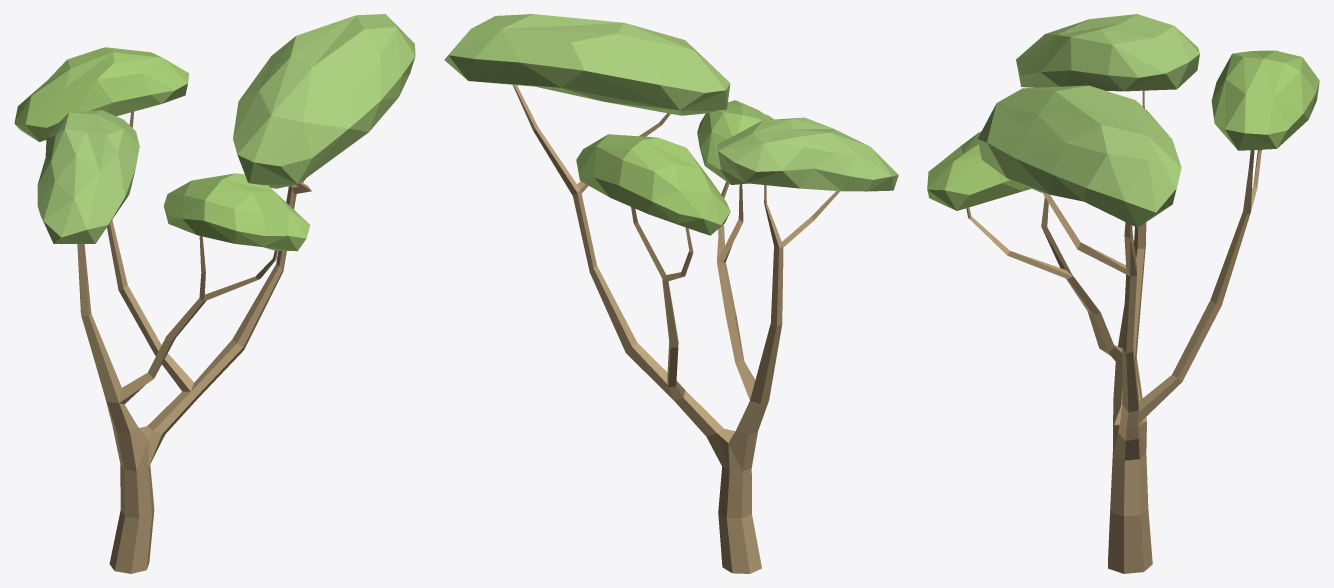
Rendered from Acacia_Tree_l_02_LOD.fbx.
The picture shows the model from 3 angles, left to right: view 1: azimuth 30°, elevation 25°; view 2: azimuth 150°, elevation 25°; view 3: azimuth 270°, elevation 25°; orthographic projection. The views are drawn at different scales.
Visible parts, largest first — view 1: Acacia_Tree_l_02_LOD0; view 2: Acacia_Tree_l_02_LOD0; view 3: Acacia_Tree_l_02_LOD0.
Part boxes in pixels (x1=…): Acacia_Tree_l_02_LOD0: x1=14, y1=14, x2=415, y2=573; Acacia_Tree_l_02_LOD0: x1=444, y1=14, x2=898, y2=573; Acacia_Tree_l_02_LOD0: x1=927, y1=14, x2=1319, y2=573.
Size of what is drawn, in the model's own units: 1006 by 1161 by 732.
